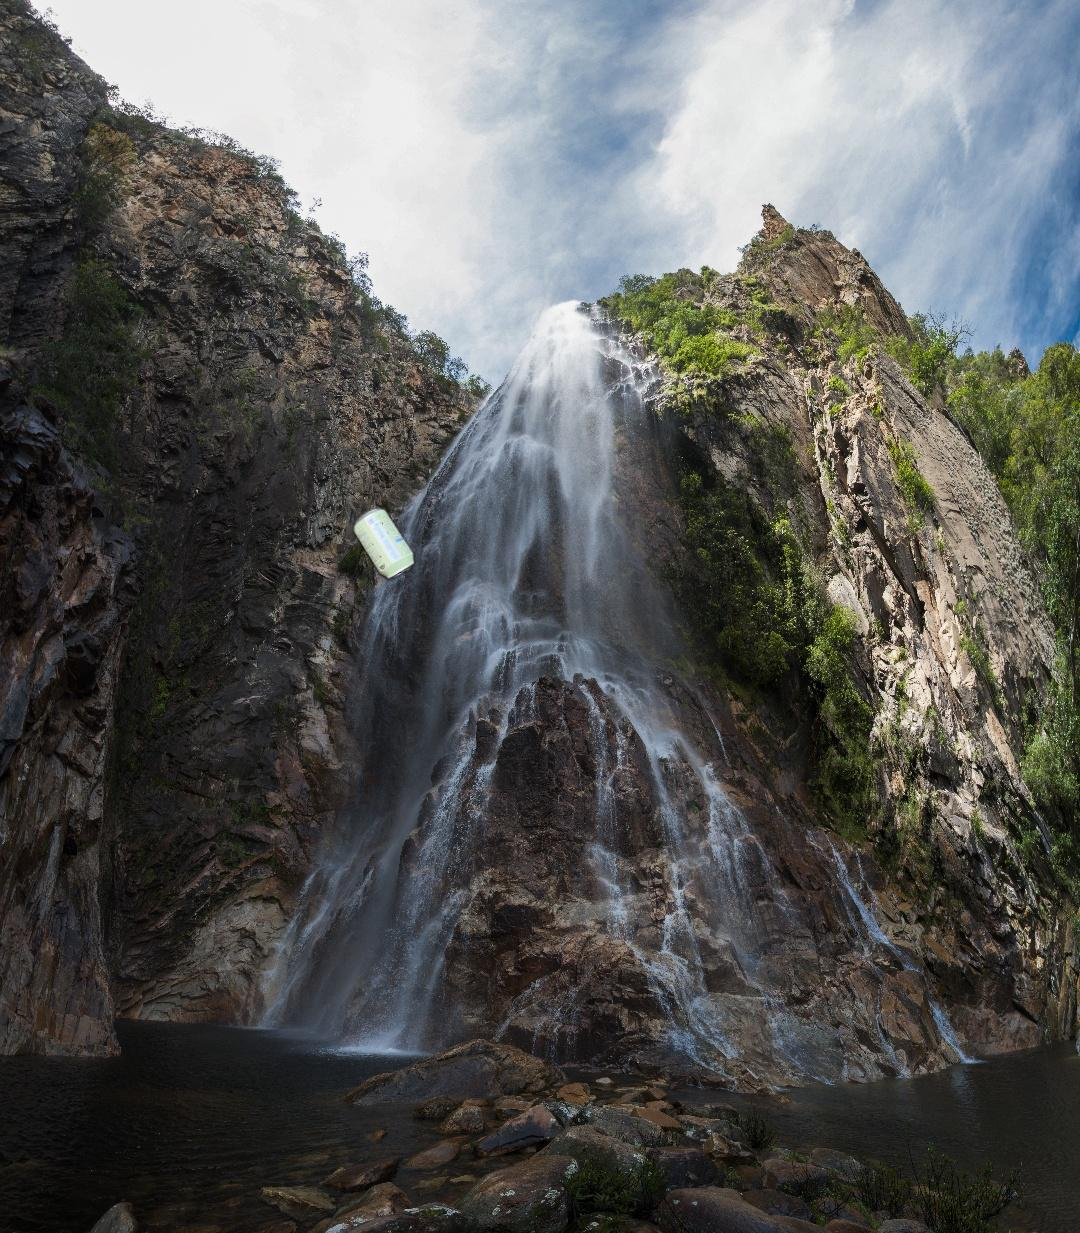metal-cans: (347, 502, 541, 880)
